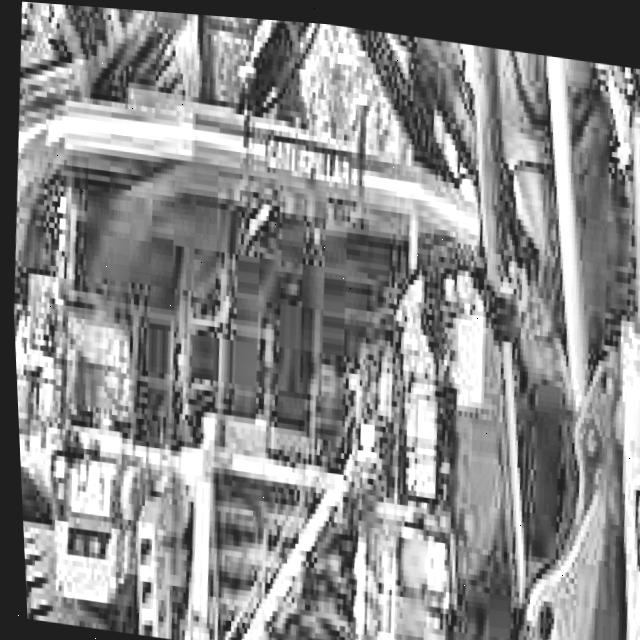dump_truck: (2, 43, 490, 640)
